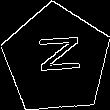N_W: (31, 37, 82, 81)
